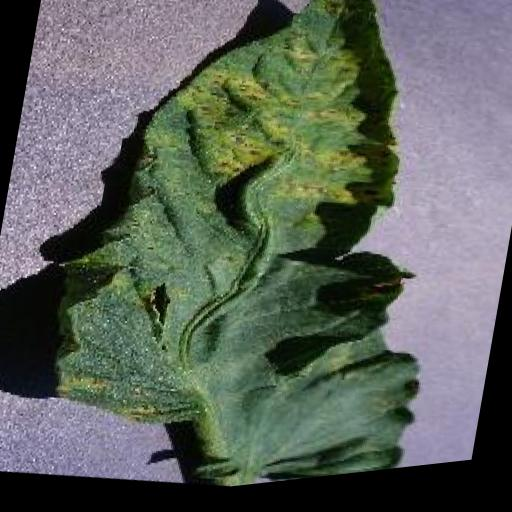Septoria: (26, 0, 493, 510)
